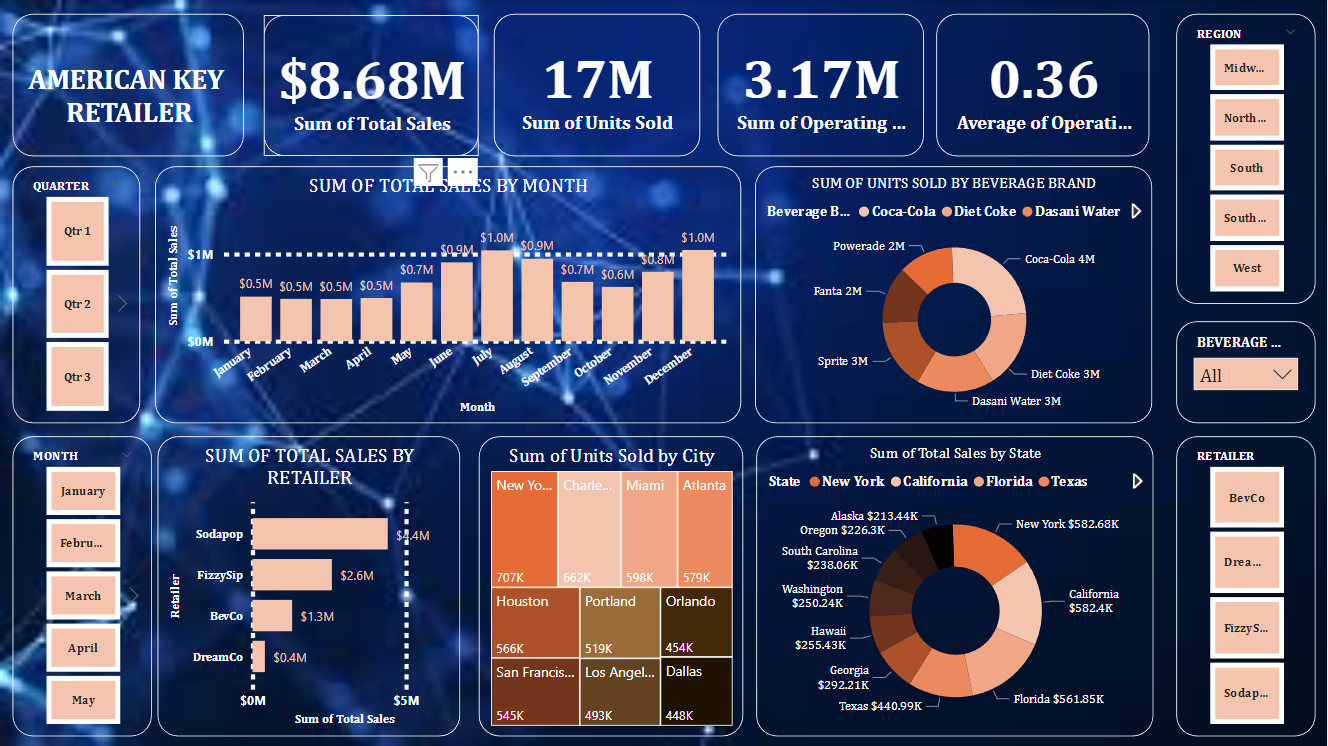

Layout of this report page (visuals, bound fields, positions):
{"tool":"powerbi","page":{"name":"Page 1","canvas":[1280,720],"ordinal":0},"visuals":[{"type":"slicer","fields":{"Values":["Sheet1.Invoice Date.Variation.Date Hierarchy.Month"]},"box":[12.3,421.3,134.5,289.5],"z":0},{"type":"slicer","fields":{"Values":["Sheet1.Invoice Date.Variation.Date Hierarchy.Quarter"]},"box":[12.3,160.5,123.5,248.4],"z":1000},{"type":"slicer","fields":{"Values":["Sheet1.Beverage Brand"]},"box":[1134.8,310.1,134.5,98.8],"z":2000},{"type":"slicer","fields":{"Values":["Sheet1.Retailer"]},"box":[1134.8,421.3,134.5,289.5],"z":3000},{"type":"slicer","fields":{"Values":["Sheet1.Region"]},"box":[1134.8,13.7,134.5,279.9],"z":4000},{"type":"card","fields":{"Values":["Sum(Sheet1.Total Sales)"]},"box":[254.5,14.5,207.4,136.3],"z":5000},{"type":"card","fields":{"Values":["Sum(Sheet1.Units Sold)"]},"box":[476.4,13.3,199,137.5],"z":6000},{"type":"card","fields":{"Values":["Sum(Sheet1.Operating Profit)"]},"box":[692.3,13.3,199,137.5],"z":7000},{"type":"card","fields":{"Values":["Avg(Sheet1.Operating Margin)"]},"box":[902.8,13.7,205.8,137.2],"z":8000},{"type":"columnChart","title":"SUM OF TOTAL SALES BY MONTH","fields":{"Category":["Sheet1.Invoice Date.Variation.Date Hierarchy.Month"],"Y":["Sum(Sheet1.Total Sales)"]},"box":[149.4,160.5,565.4,248.4],"z":9000},{"type":"donutChart","title":"SUM OF UNITS SOLD BY BEVERAGE BRAND","fields":{"Y":["Sum(Sheet1.Units Sold)"],"Category":["Sheet1.Beverage Brand"]},"box":[728.6,160.5,382.8,248.4],"z":10000},{"type":"barChart","title":"SUM OF TOTAL SALES BY RETAILER","fields":{"Y":["Sum(Sheet1.Total Sales)"],"Category":["Sheet1.Retailer"]},"box":[152.3,421.3,292.3,289.5],"z":11000},{"type":"treemap","fields":{"Group":["Sheet1.City"],"Values":["Sum(Sheet1.Units Sold)"]},"box":[462.4,421.3,255.2,289.5],"z":12000},{"type":"donutChart","fields":{"Y":["Sum(Sheet1.Total Sales)"],"Category":["Sheet1.State"]},"box":[730,421.3,382.8,289.5],"z":13000},{"type":"textbox","box":[12.1,13.3,223.1,137.5],"z":14000}]}

Visuals, with their boxes in screenshot pixels (x1, y1, x2, y2), scaled from the page's 1280x720 canvas onto the 1328x746 screenshot:
slicer - Sheet1.Invoice Date.Variation.Date Hierarchy.Month: 13:437:152:736
slicer - Sheet1.Invoice Date.Variation.Date Hierarchy.Quarter: 13:166:141:424
slicer - Sheet1.Beverage Brand: 1177:321:1317:424
slicer - Sheet1.Retailer: 1177:437:1317:736
slicer - Sheet1.Region: 1177:14:1317:304
card - Sum(Sheet1.Total Sales): 264:15:479:156
card - Sum(Sheet1.Units Sold): 494:14:701:156
card - Sum(Sheet1.Operating Profit): 718:14:925:156
card - Avg(Sheet1.Operating Margin): 937:14:1150:156
"SUM OF TOTAL SALES BY MONTH" columnChart: 155:166:742:424
"SUM OF UNITS SOLD BY BEVERAGE BRAND" donutChart: 756:166:1153:424
"SUM OF TOTAL SALES BY RETAILER" barChart: 158:437:461:736
treemap - Sheet1.City x Sum(Sheet1.Units Sold): 480:437:745:736
donutChart - Sum(Sheet1.Total Sales) x Sheet1.State: 757:437:1155:736
textbox: 13:14:244:156
